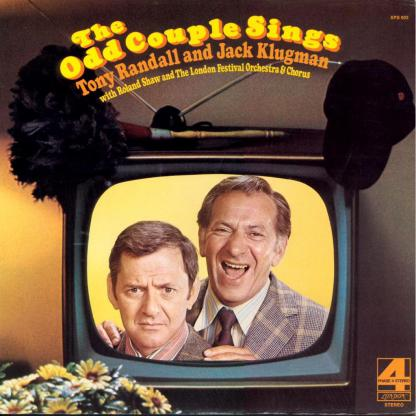face: (208, 194, 275, 300), (117, 254, 189, 349)
